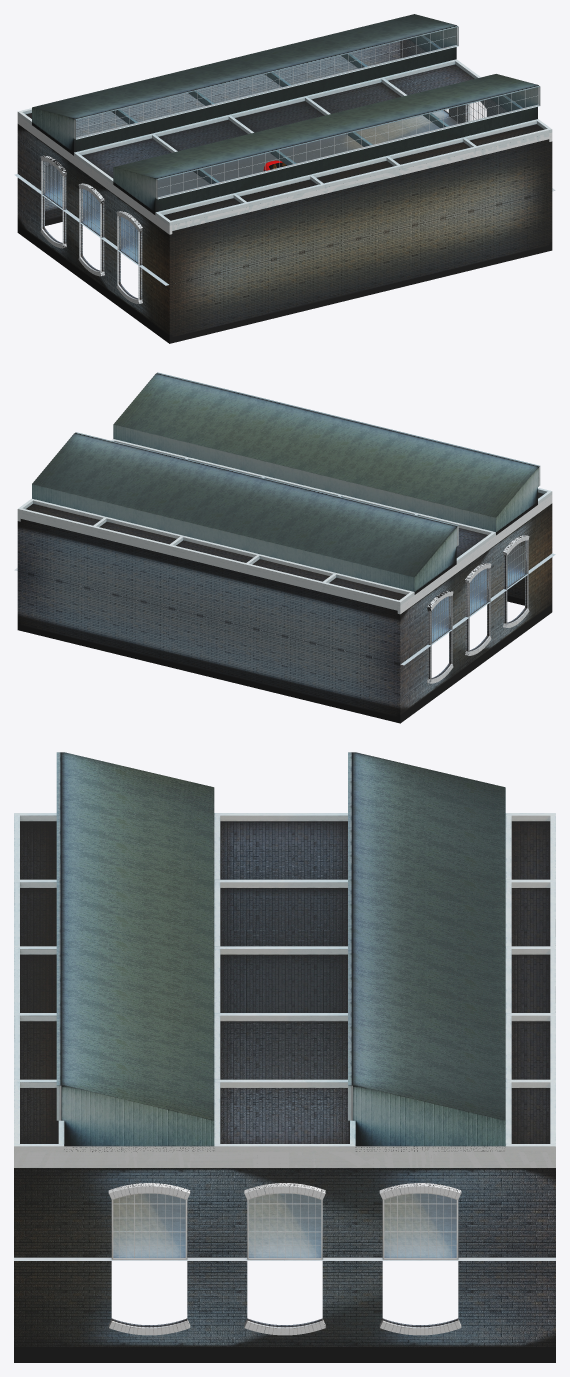
Rendered from all.gltf.
3 renders of one model, top to bottom at view 1: azimuth 30°, elevation 25°; view 2: azimuth 150°, elevation 25°; view 3: azimuth 270°, elevation 25°, orthographic. The views are drawn at different scales.
Visible parts, largest first — view 1: walls, roof, walls001, beams, celling, floor, windows; view 2: roof, walls001, walls, beams, celling, floor, windows; view 3: roof, celling, walls001, walls, beams, floor, windows.
Part boxes in pixels (x1,y1,x2,y2): walls: (17, 39, 552, 284); roof: (32, 14, 540, 214); walls001: (17, 178, 552, 343); beams: (17, 35, 552, 234); celling: (26, 64, 543, 220); floor: (14, 109, 555, 285); windows: (43, 27, 539, 263); roof: (32, 372, 540, 594); walls001: (17, 557, 552, 723); walls: (17, 503, 552, 664); beams: (17, 439, 552, 614); celling: (26, 492, 543, 600); floor: (14, 545, 555, 665); windows: (429, 467, 539, 644); roof: (56, 752, 505, 1151); celling: (20, 821, 550, 1143); walls001: (14, 1261, 555, 1362); walls: (14, 1168, 555, 1257); beams: (14, 813, 555, 1167); floor: (14, 1193, 555, 1260); windows: (60, 1085, 458, 1259).
Bounding box in the file's own units: 4155 × 1581 × 2800.
